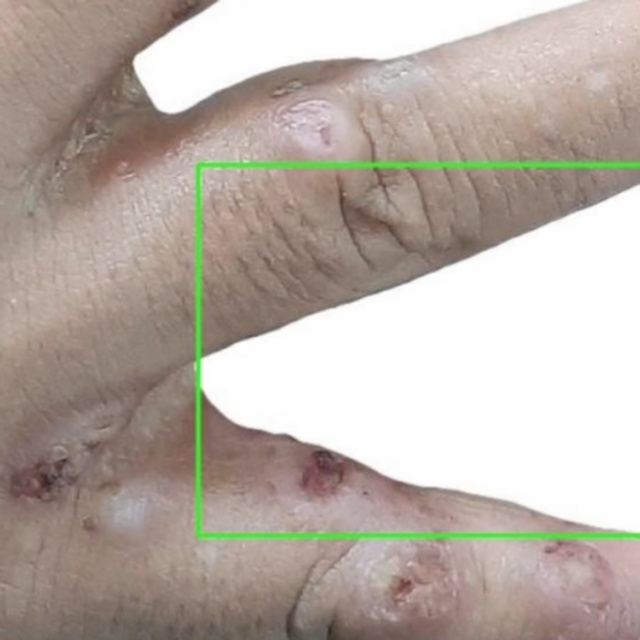Scabies: (0, 0, 639, 639), (198, 164, 639, 535)
